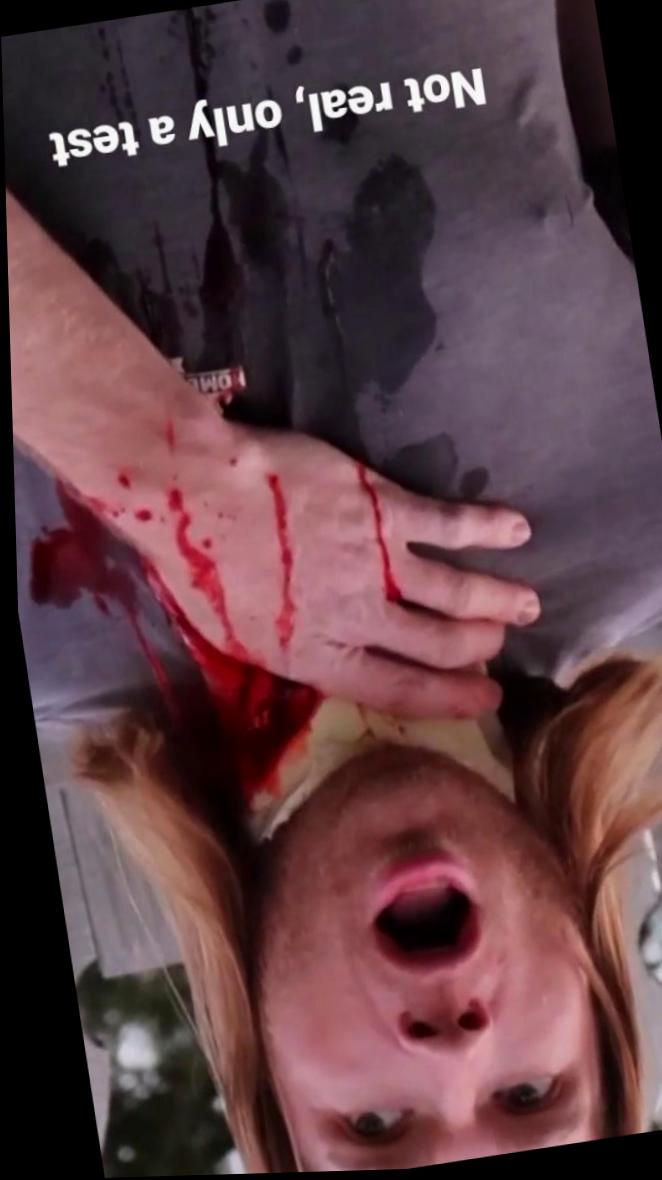Fire: (75, 394, 401, 686), (26, 483, 318, 801)
